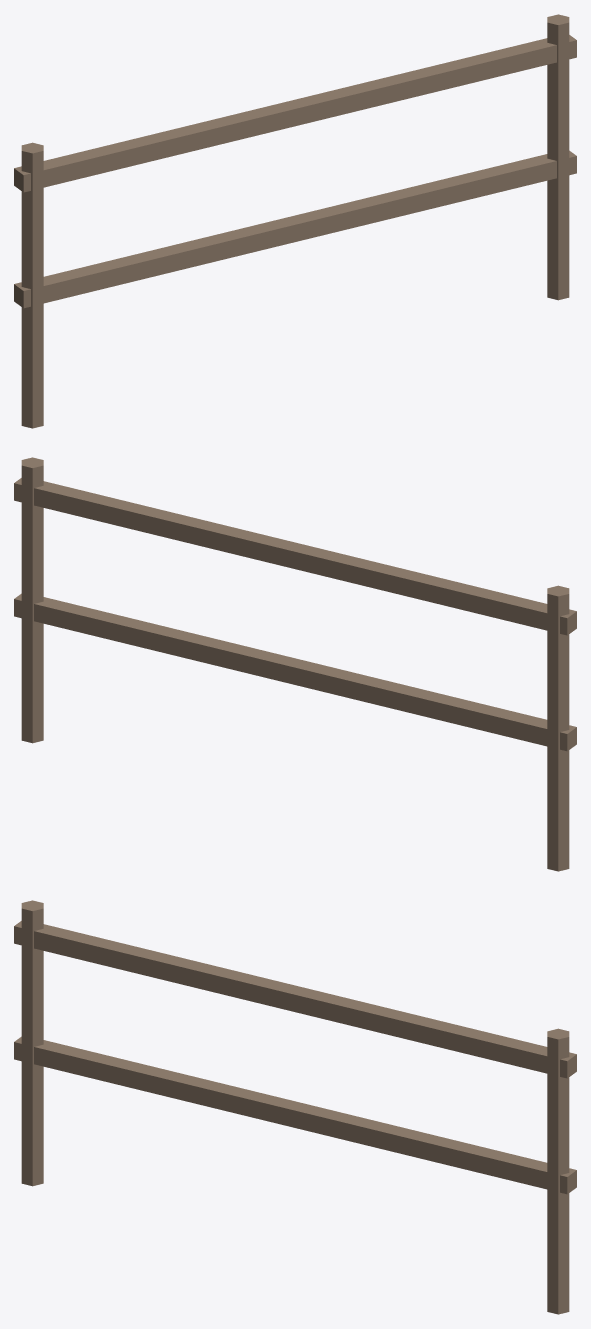
Rendered from HK_Guardrail.glb.
3 renders of one model, top to bottom at view 1: azimuth 30°, elevation 25°; view 2: azimuth 150°, elevation 25°; view 3: azimuth 330°, elevation 25°, orthographic.
Parts seen in each view (by area): view 1: HK_Guardrail; view 2: HK_Guardrail; view 3: HK_Guardrail.
Boxes of the visible parts, box(x1,y1,x2,y2) form: HK_Guardrail: box(14, 14, 576, 428); HK_Guardrail: box(14, 457, 576, 871); HK_Guardrail: box(14, 900, 576, 1314).
Bounding box in the file's own units: 2 × 0.95 × 0.0693.
